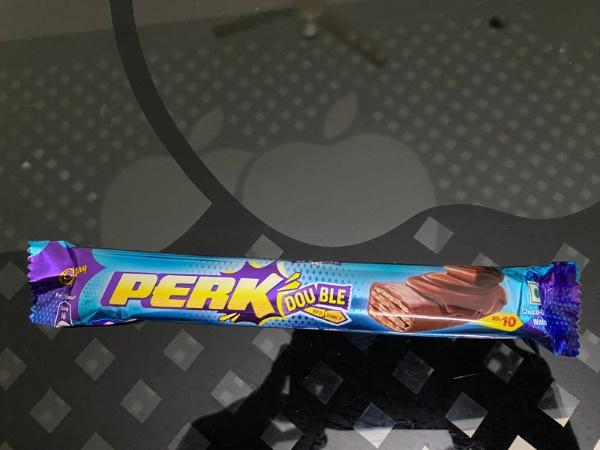Perk: (22, 228, 585, 368)
